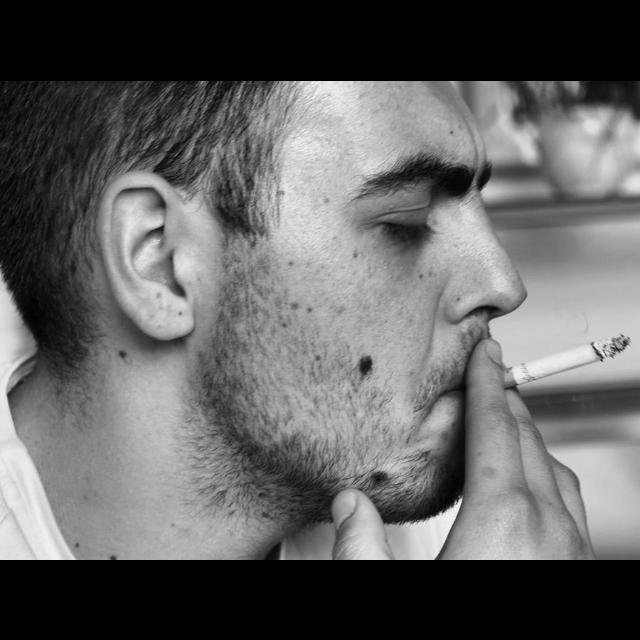rokok: (507, 337, 627, 389)
